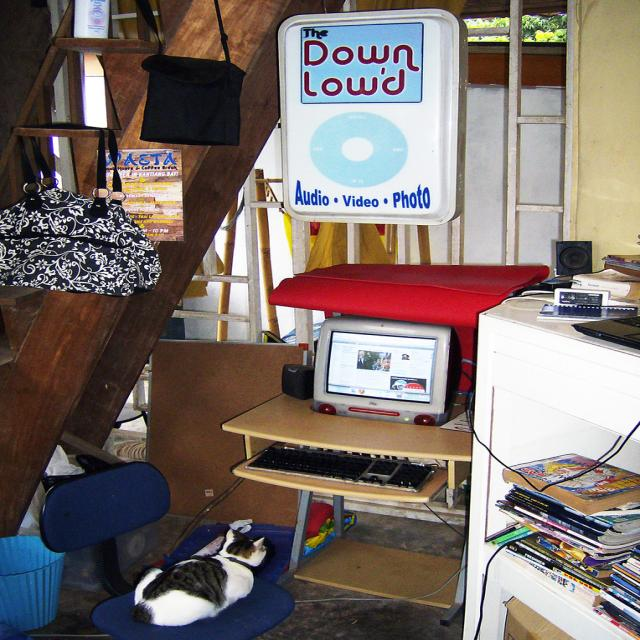desk: (208, 332, 497, 560)
keyboard: (241, 443, 438, 492)
tv: (311, 316, 460, 425)
